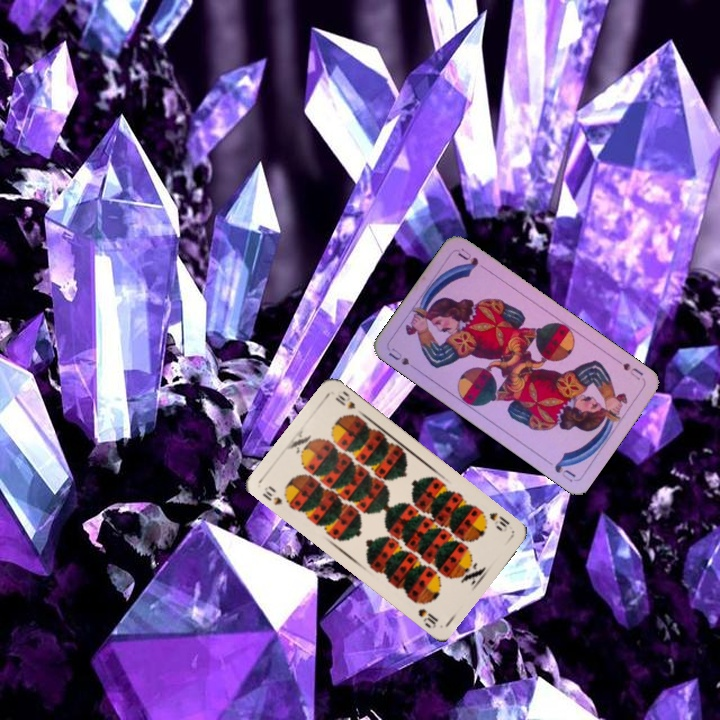S10: (258, 481, 293, 510), (485, 508, 512, 530)
SU: (611, 354, 646, 383), (384, 344, 412, 368)
